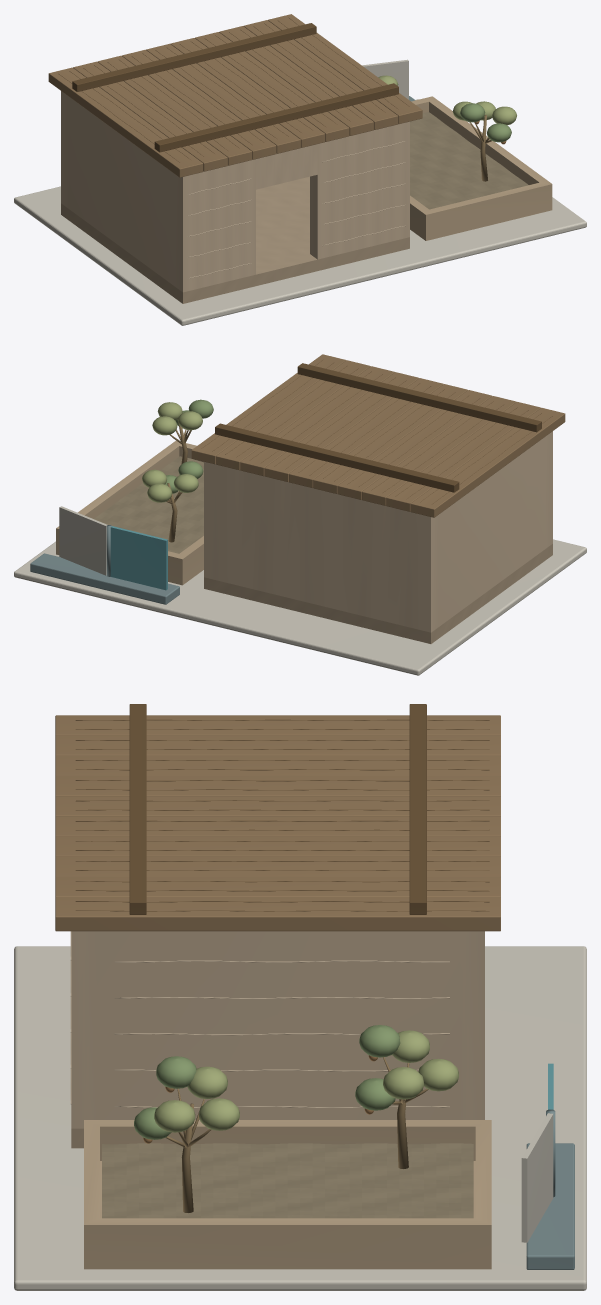
The model's file is exile-dwelling.glb.
3 views of the same model, one above another, from view 1: azimuth 30°, elevation 25°; view 2: azimuth 150°, elevation 25°; view 3: azimuth 270°, elevation 25° (orthographic). The views are drawn at different scales.
Visible parts, largest first — view 1: exile-dwelling-exile-modern-oiled-reading-wood, exile-dwelling-exile-modern-warm-pale-fixture, exile-dwelling-exile-original-ordinary-house-wall.001, exile-dwelling-exile-original-ordinary-house-wall.004, exile-dwelling-exile-original-ordinary-house-wall.003, exile-dwelling-exile-original-ordinary-house-floor, exile-dwelling-exile-reading-wood-fine-grain, exile-dwelling-exile-original-middle-soil-section, exile-dwelling-exile-original-topsoil-section, exile-dwelling-exile-original-ordinary-house-wall.005, exile-dwelling-exile-original-ordinary-house-wall, exile-dwelling-exile-original-house-interior-tone (+4 smaller); view 2: exile-dwelling-exile-modern-oiled-reading-wood, exile-dwelling-exile-original-ordinary-house-wall, exile-dwelling-exile-modern-warm-pale-fixture, exile-dwelling-exile-original-ordinary-house-wall.001, exile-dwelling-exile-reading-wood-fine-grain, exile-dwelling-exile-original-topsoil-section, exile-dwelling-exile-original-ordinary-house-floor, exile-dwelling-exile-original-middle-soil-section, exile-dwelling-exile-modern-blue-reading-marker, exile-dwelling-exile-modern-slate-fixture, exile-dwelling-exile-modern-warm-pale-fixture.001, exile-dwelling-exile-original-plant-leaf-variation (+3 smaller); view 3: exile-dwelling-exile-modern-oiled-reading-wood, exile-dwelling-exile-original-ordinary-house-wall.002, exile-dwelling-exile-modern-warm-pale-fixture, exile-dwelling-exile-original-middle-soil-section, exile-dwelling-exile-original-topsoil-section, exile-dwelling-exile-reading-wood-fine-grain, exile-dwelling-exile-original-ordinary-house-wall.004, exile-dwelling-exile-original-ordinary-house-wall, exile-dwelling-exile-modern-slate-fixture, exile-dwelling-exile-original-plant-leaf-variation.001, exile-dwelling-exile-modern-warm-pale-fixture.001, exile-dwelling-exile-original-plant-leaf-variation (+5 smaller).
Boxes of the visible parts, x1=… form: exile-dwelling-exile-modern-oiled-reading-wood: x1=48, y1=14, x2=422, y2=177; exile-dwelling-exile-modern-warm-pale-fixture: x1=14, y1=99, x2=586, y2=325; exile-dwelling-exile-original-ordinary-house-wall.001: x1=68, y1=97, x2=175, y2=286; exile-dwelling-exile-original-ordinary-house-wall.004: x1=310, y1=121, x2=409, y2=259; exile-dwelling-exile-original-ordinary-house-wall.003: x1=175, y1=159, x2=255, y2=292; exile-dwelling-exile-original-ordinary-house-floor: x1=61, y1=176, x2=409, y2=303; exile-dwelling-exile-reading-wood-fine-grain: x1=59, y1=18, x2=409, y2=162; exile-dwelling-exile-original-middle-soil-section: x1=410, y1=96, x2=552, y2=240; exile-dwelling-exile-original-topsoil-section: x1=410, y1=112, x2=528, y2=209; exile-dwelling-exile-original-ordinary-house-wall.005: x1=256, y1=144, x2=317, y2=189; exile-dwelling-exile-original-ordinary-house-wall: x1=61, y1=91, x2=68, y2=208; exile-dwelling-exile-original-house-interior-tone: x1=187, y1=141, x2=405, y2=278; exile-dwelling-exile-modern-oiled-reading-wood: x1=191, y1=354, x2=565, y2=517; exile-dwelling-exile-original-ordinary-house-wall: x1=204, y1=462, x2=438, y2=632; exile-dwelling-exile-modern-warm-pale-fixture: x1=14, y1=539, x2=586, y2=675; exile-dwelling-exile-original-ordinary-house-wall.001: x1=438, y1=437, x2=545, y2=626; exile-dwelling-exile-reading-wood-fine-grain: x1=201, y1=360, x2=552, y2=504; exile-dwelling-exile-original-topsoil-section: x1=94, y1=456, x2=203, y2=553; exile-dwelling-exile-original-ordinary-house-floor: x1=204, y1=544, x2=552, y2=643; exile-dwelling-exile-original-middle-soil-section: x1=56, y1=440, x2=203, y2=585; exile-dwelling-exile-modern-blue-reading-marker: x1=110, y1=526, x2=167, y2=590; exile-dwelling-exile-modern-slate-fixture: x1=30, y1=525, x2=179, y2=604; exile-dwelling-exile-modern-warm-pale-fixture.001: x1=59, y1=506, x2=107, y2=575; exile-dwelling-exile-original-plant-leaf-variation: x1=142, y1=469, x2=198, y2=502; exile-dwelling-exile-modern-oiled-reading-wood: x1=55, y1=715, x2=500, y2=931; exile-dwelling-exile-original-ordinary-house-wall.002: x1=96, y1=931, x2=459, y2=1119; exile-dwelling-exile-modern-warm-pale-fixture: x1=14, y1=946, x2=586, y2=1290; exile-dwelling-exile-original-middle-soil-section: x1=84, y1=1120, x2=491, y2=1269; exile-dwelling-exile-original-topsoil-section: x1=102, y1=1143, x2=473, y2=1218; exile-dwelling-exile-reading-wood-fine-grain: x1=75, y1=704, x2=489, y2=914; exile-dwelling-exile-original-ordinary-house-wall.004: x1=71, y1=931, x2=96, y2=1128; exile-dwelling-exile-original-ordinary-house-wall: x1=459, y1=931, x2=484, y2=1119; exile-dwelling-exile-modern-slate-fixture: x1=526, y1=1109, x2=574, y2=1269; exile-dwelling-exile-original-plant-leaf-variation.001: x1=154, y1=1066, x2=239, y2=1132; exile-dwelling-exile-modern-warm-pale-fixture.001: x1=521, y1=1113, x2=553, y2=1242; exile-dwelling-exile-original-plant-leaf-variation: x1=383, y1=1030, x2=458, y2=1099.
Bounding box in the file's own units: 1.25 × 0.453 × 0.9.
